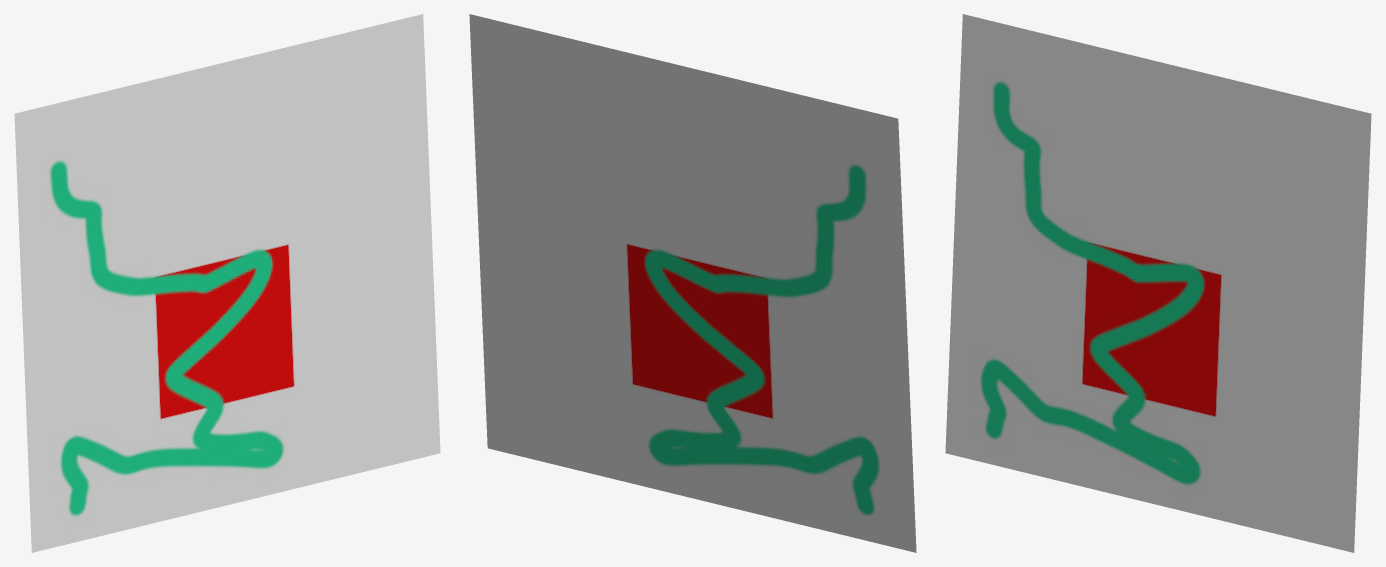
3 renders of one model, left to right at view 1: azimuth 30°, elevation 25°; view 2: azimuth 150°, elevation 25°; view 3: azimuth 330°, elevation 25°, orthographic. The views are drawn at different scales.
Parts seen in each view (by area): view 1: Grid; view 2: Grid; view 3: Grid.
Part boxes in pixels (x1=…): Grid: x1=14, y1=14, x2=440, y2=552; Grid: x1=469, y1=14, x2=916, y2=552; Grid: x1=945, y1=14, x2=1371, y2=552.
Bounding box in the file's own units: 2 × 1.99 × 0.1471.
1 material, 1 textured.
